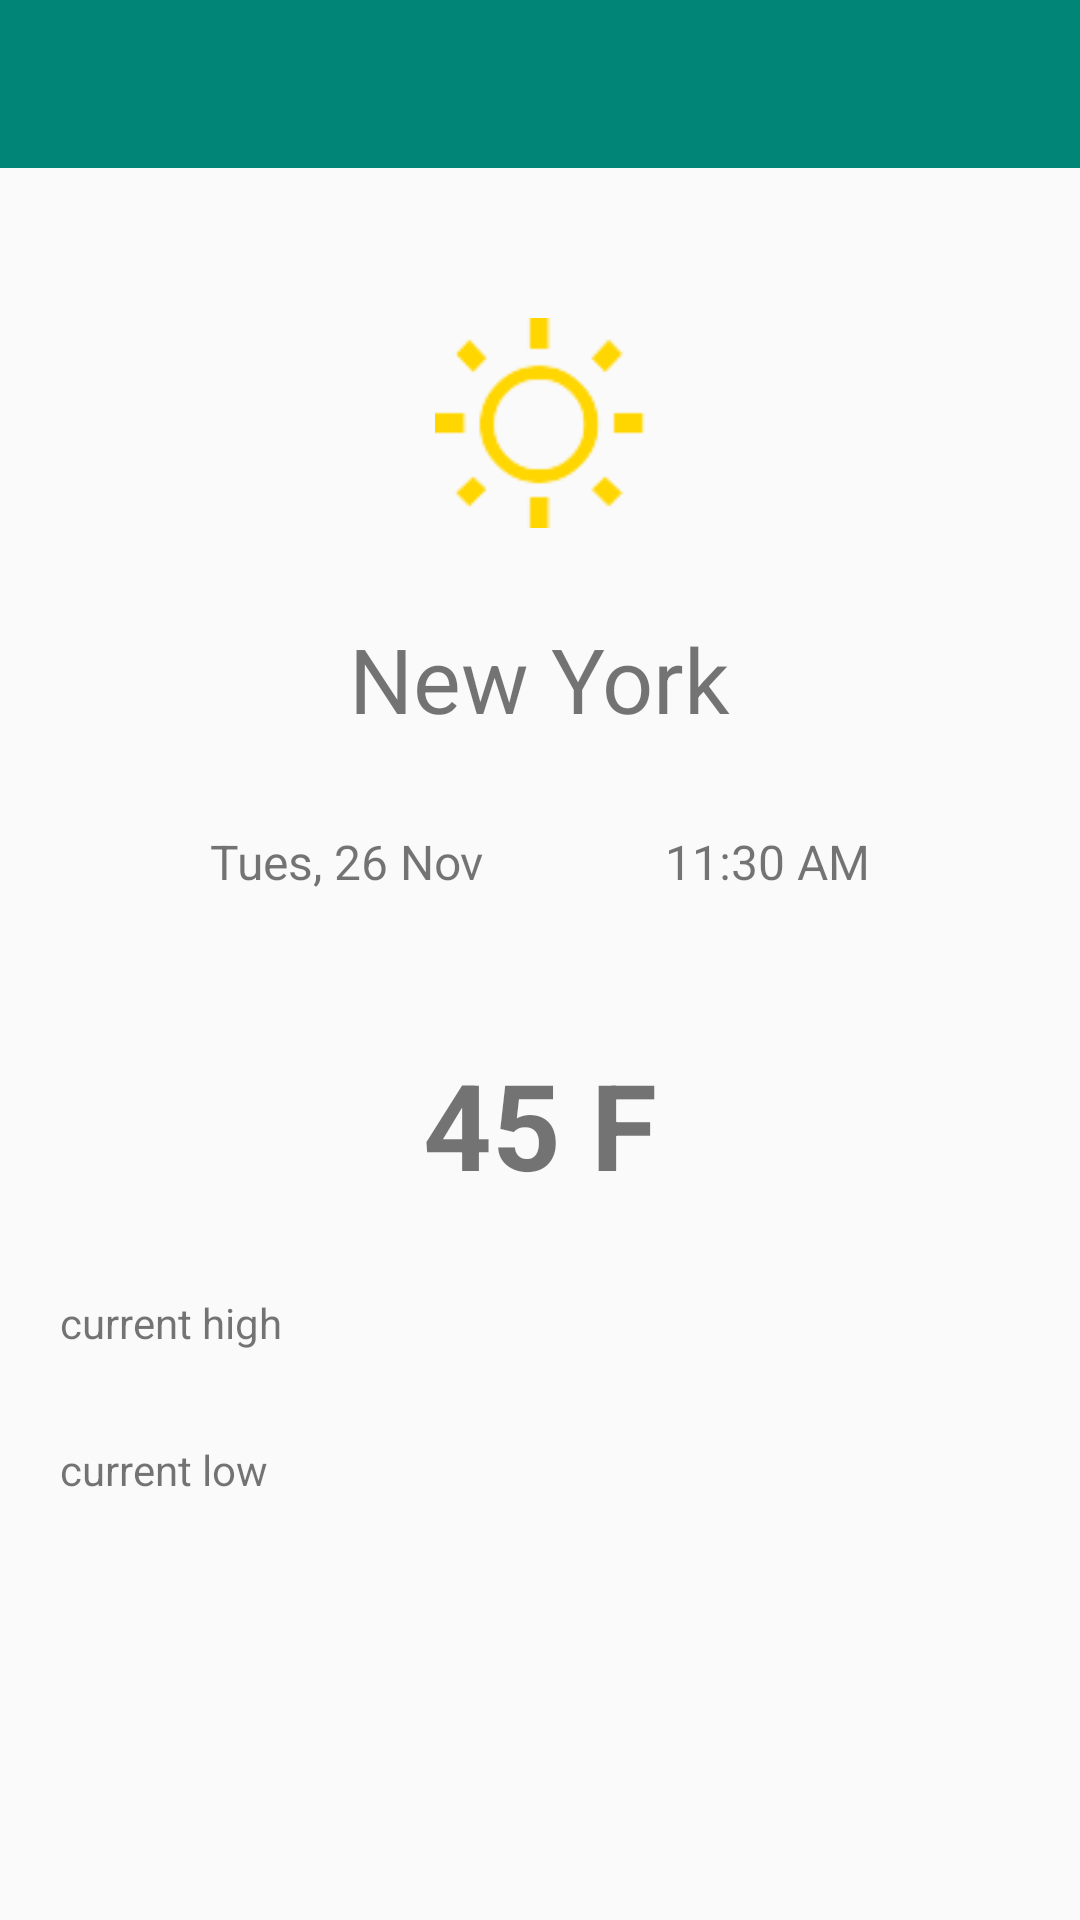

Locate icon controls on the screen. Image size 1080*1920, boxes as bbox=[x1, y1, x2, y2].
sun: bbox=[435, 318, 645, 528]
